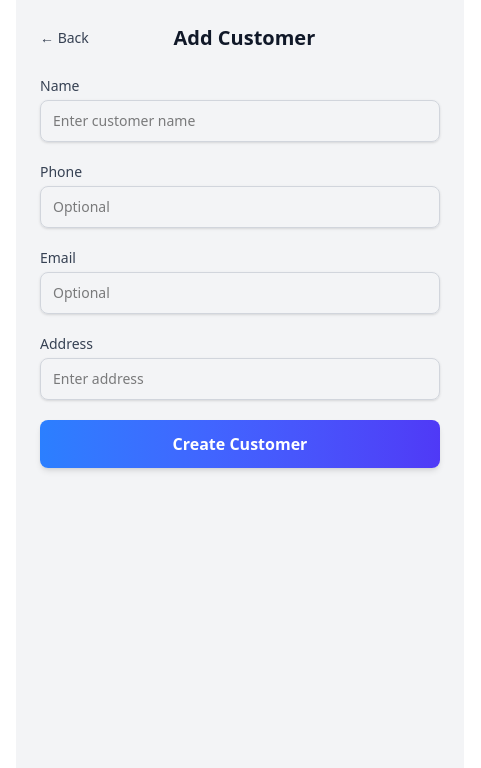
NewCustomerPage › shows validation errors when required fields are empty
Click the button "Create Customer": (240, 444) [40, 420, 440, 468]
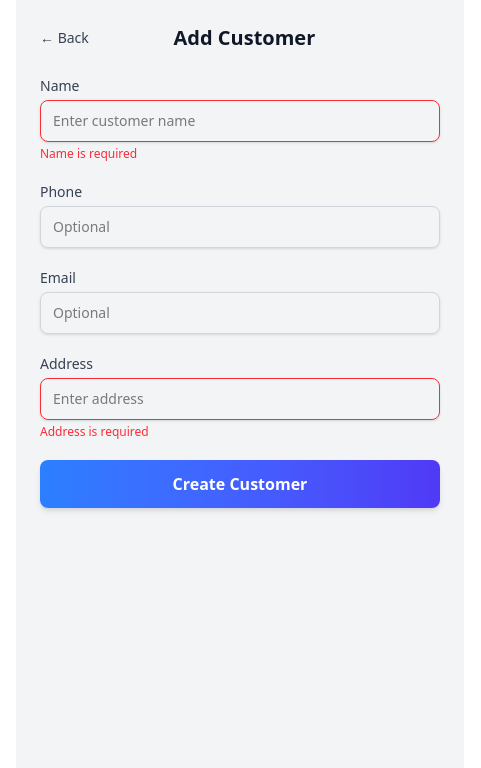
Result: the text "Name is required" is shown at [40, 145, 137, 162]
Result: the text "Address is required" is shown at [40, 423, 149, 440]
